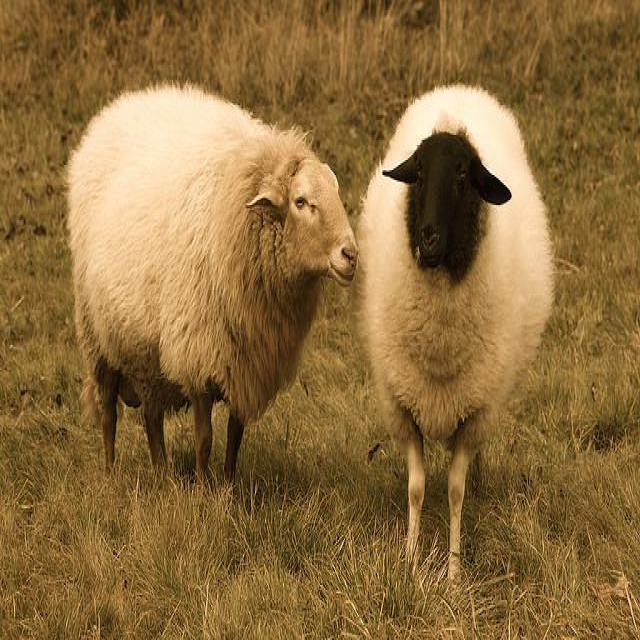Sheep: (69, 82, 357, 490), (357, 82, 558, 585)
